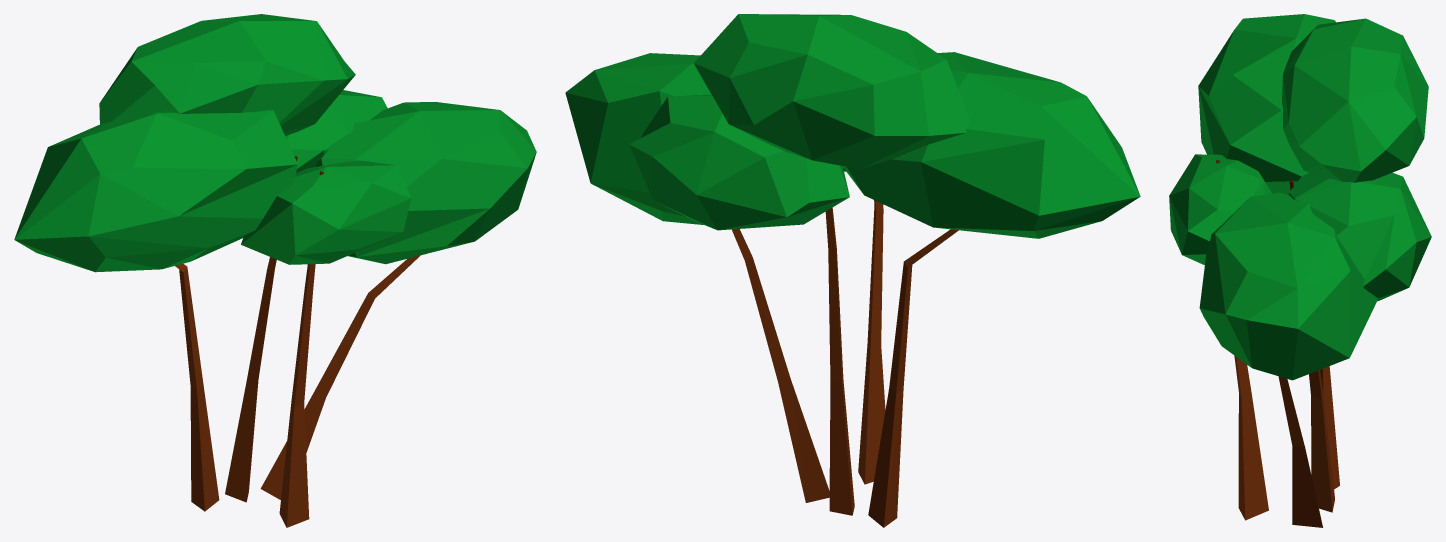
The model's file is TreeBush01.fbx.
3 renders of one model, left to right at view 1: azimuth 30°, elevation 25°; view 2: azimuth 150°, elevation 25°; view 3: azimuth 270°, elevation 25°, orthographic. The views are drawn at different scales.
Parts seen in each view (by area): view 1: Bush01; view 2: Bush01; view 3: Bush01.
Part boxes in pixels (x1,y1,x2,y2): Bush01: (14,14,536,527); Bush01: (565,14,1140,527); Bush01: (1169,14,1431,527).
Size of the model in its own units: 199 by 170 by 86.18.
